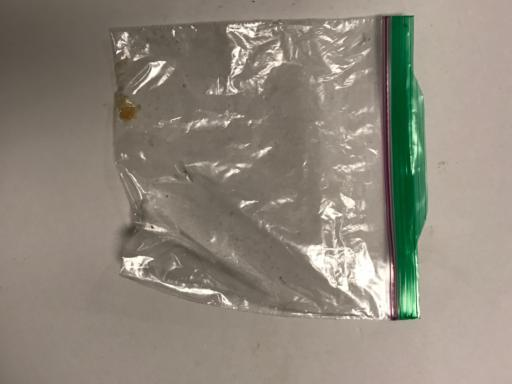trash: (110, 17, 428, 321)
